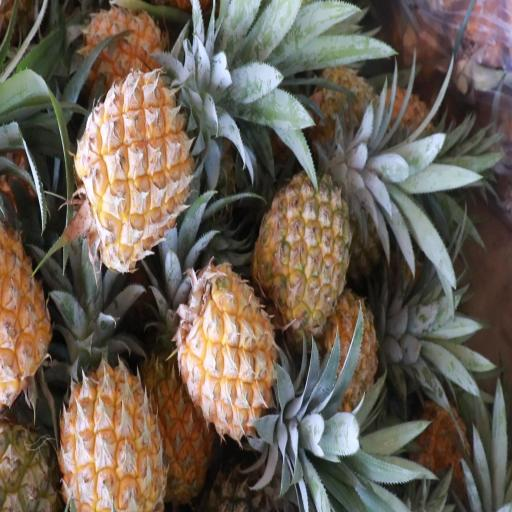------------------------------: (256, 168, 350, 330)
Pineapple - v8 v1: (78, 72, 189, 263), (178, 269, 276, 433), (62, 359, 162, 512), (145, 350, 217, 500)
